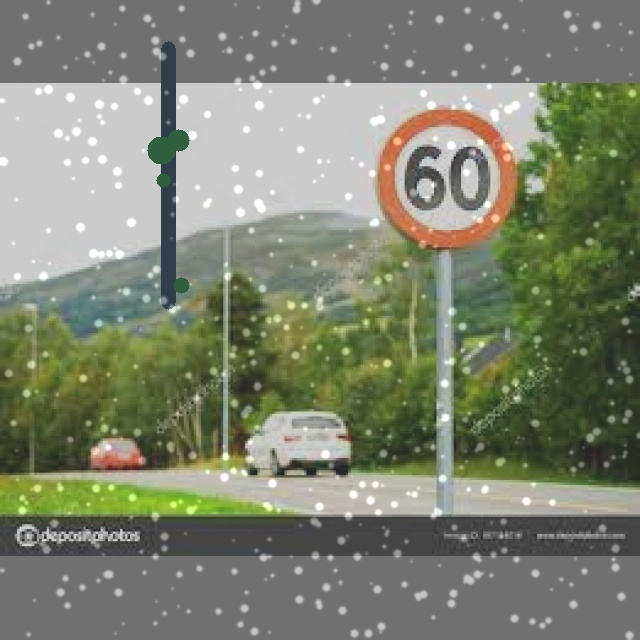Speed_Limit_60: (376, 104, 517, 247)
